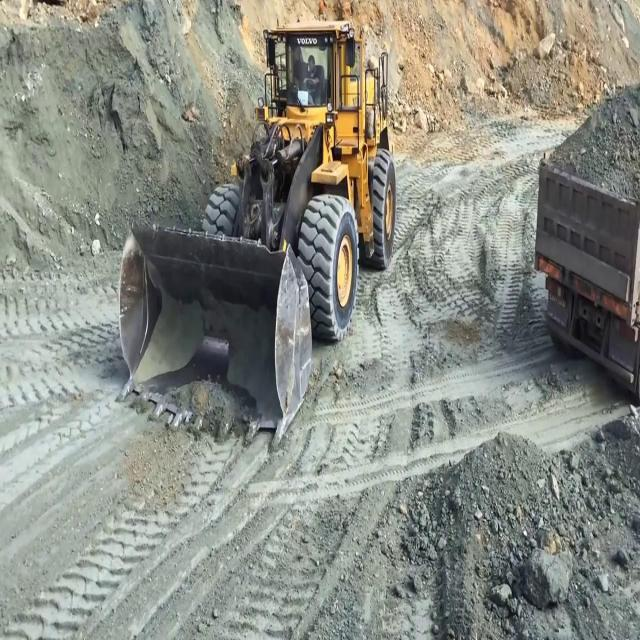buldozerpayloadergrader: (101, 14, 407, 448)
dump_truck: (531, 49, 638, 412)
